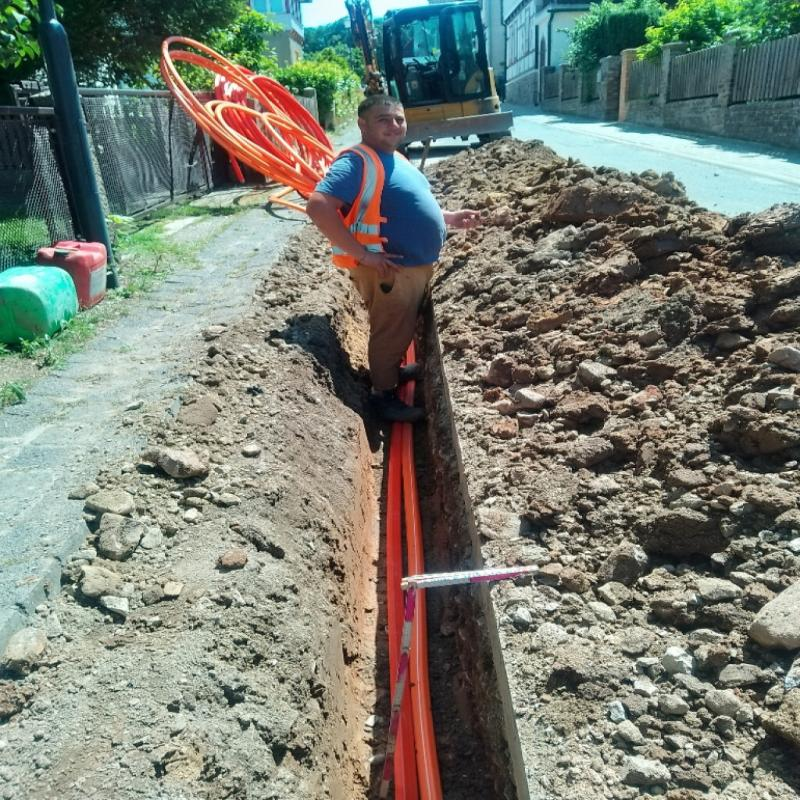Orang-Speednetrohrchen: (402, 425, 442, 800), (388, 425, 418, 797)
